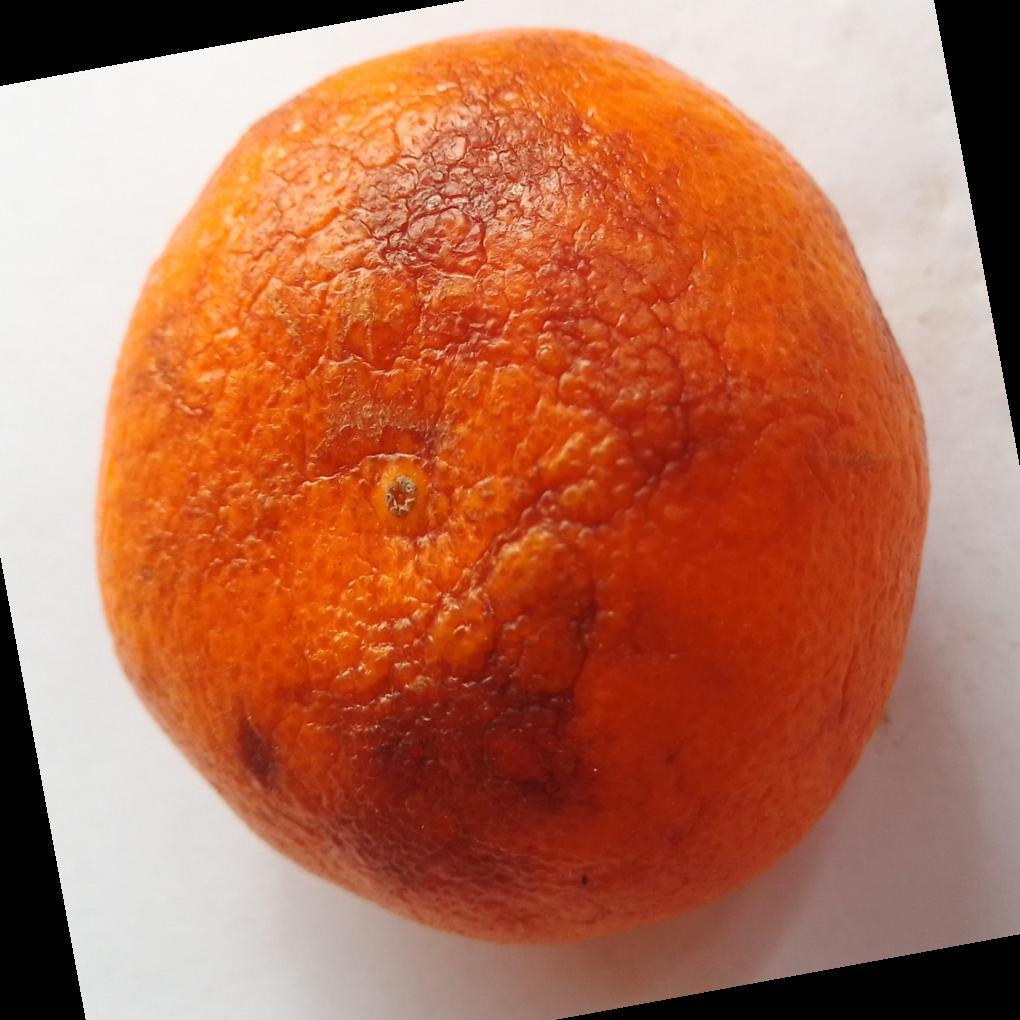FreshOrange: (92, 28, 933, 950)
